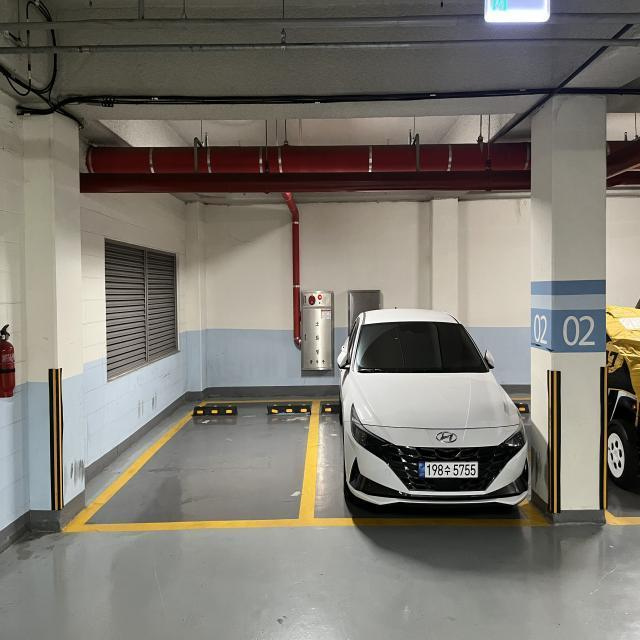Car: (332, 298, 545, 542)
Vacant: (67, 392, 316, 529)
